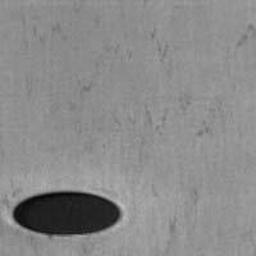Punching: (10, 189, 119, 238)
